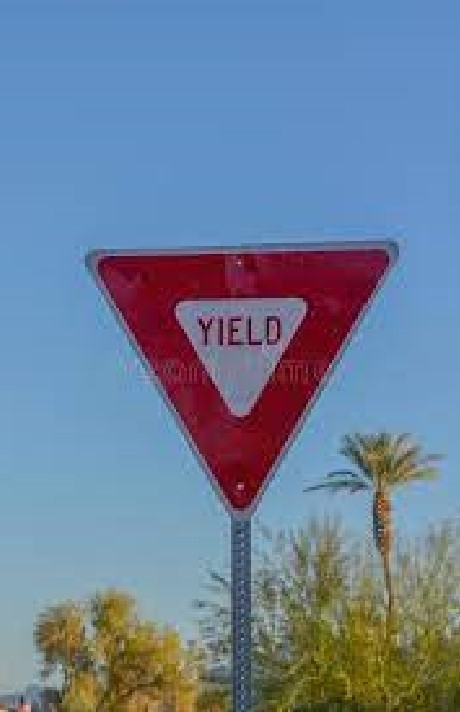Yeild: (83, 240, 401, 524)
